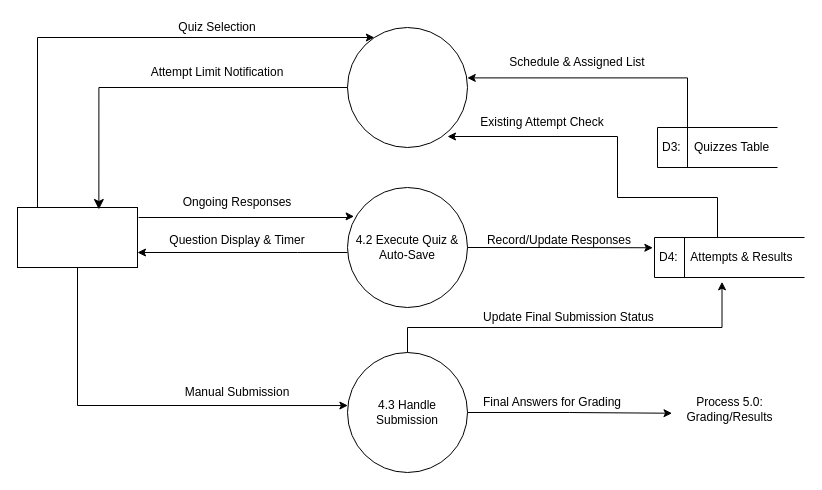
This 822x490 diagram has some shape labels left out. The box of each missing label's shape, as (x1, y1, x2, y2) in pixels:
4.1 Validate Access & Initialize: (346, 26, 468, 148)
Students: (16, 206, 138, 268)
